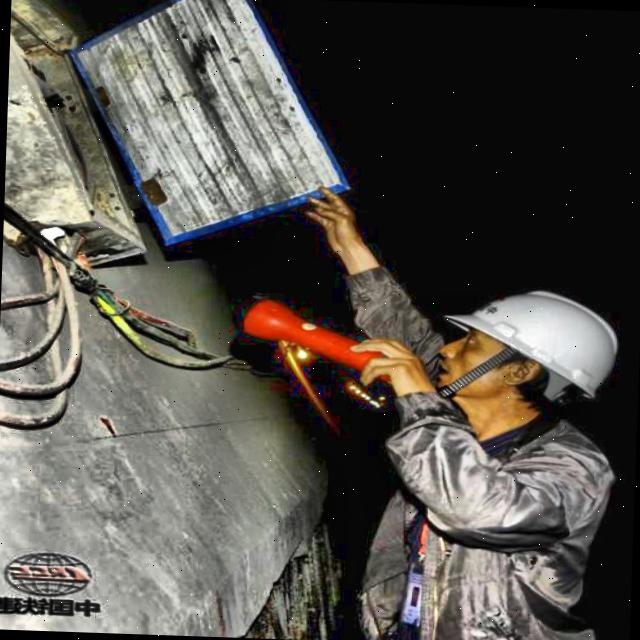helmet: (410, 268, 630, 440)
